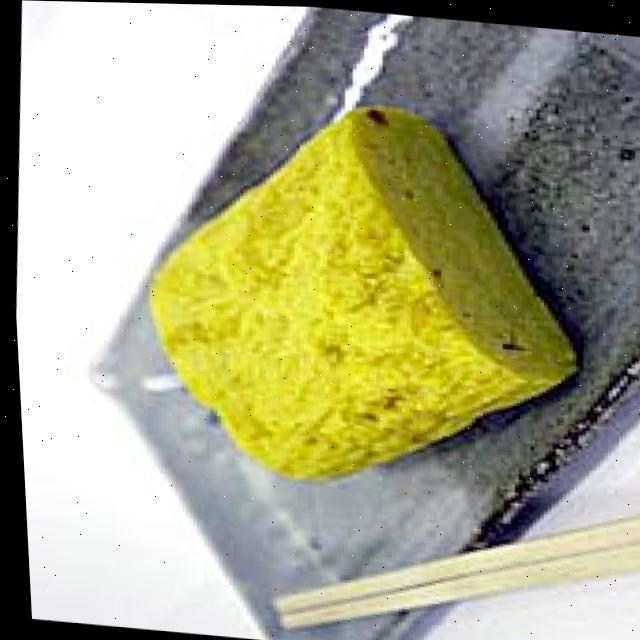鸡蛋料理: (109, 71, 599, 513)
